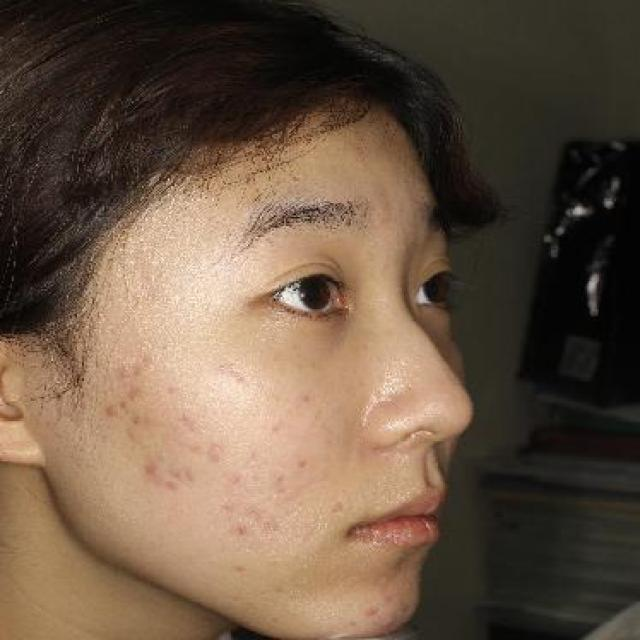Acne: (189, 438, 233, 468), (133, 457, 168, 485), (99, 400, 128, 429), (292, 386, 322, 409)
